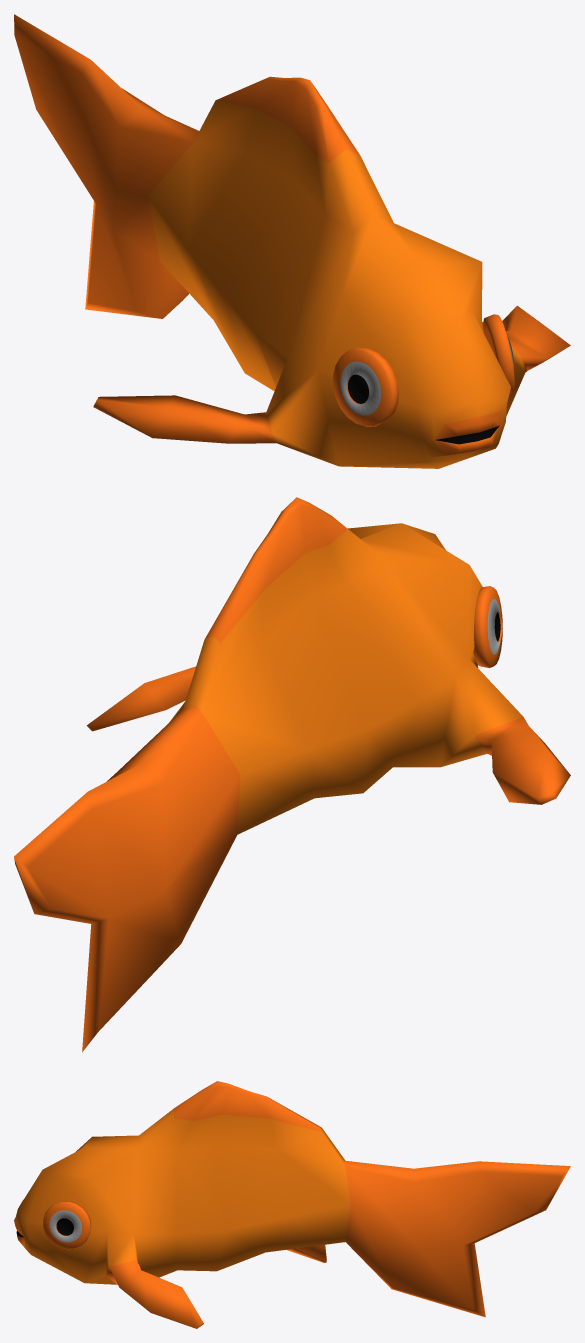
File: fish.fbx
3 views of the same model, one above another, from view 1: azimuth 30°, elevation 25°; view 2: azimuth 150°, elevation 25°; view 3: azimuth 270°, elevation 25° (orthographic). The views are drawn at different scales.
Visible parts, largest first — view 1: Cube, Circle; view 2: Cube, Circle; view 3: Cube, Circle.
Part boxes in pixels (bbox=[...]): Cube: bbox=[14, 14, 570, 468]; Circle: bbox=[333, 314, 514, 426]; Cube: bbox=[14, 497, 570, 1052]; Circle: bbox=[473, 586, 502, 668]; Cube: bbox=[14, 1081, 570, 1328]; Circle: bbox=[43, 1201, 91, 1249].
Bounding box in the file's own units: 297 × 239 × 506.
